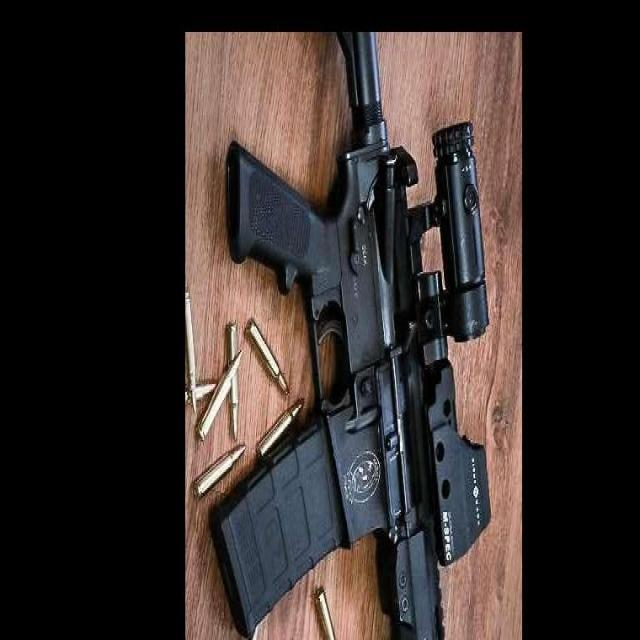weapon: (208, 30, 492, 640)
